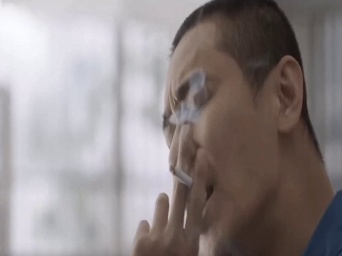smoke: (169, 163, 196, 187)
